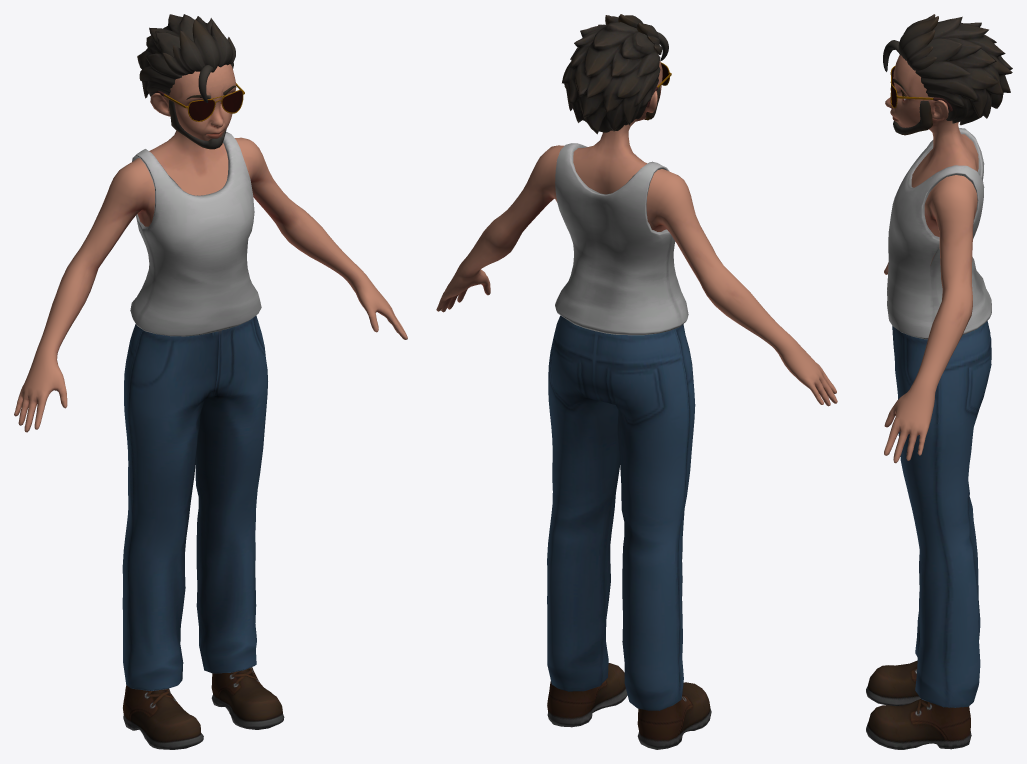
File: Volvi_Mesh.obj
3 renders of one model, left to right at view 1: azimuth 30°, elevation 25°; view 2: azimuth 150°, elevation 25°; view 3: azimuth 270°, elevation 25°, orthographic.
Visible parts, largest first — view 1: Volvi_Mesh_0; view 2: Volvi_Mesh_0; view 3: Volvi_Mesh_0.
Boxes of the visible parts, <box> form: Volvi_Mesh_0: <box>14,14,407,749</box>; Volvi_Mesh_0: <box>436,14,837,749</box>; Volvi_Mesh_0: <box>866,14,1012,749</box>.
Size of the model in its own units: 1.06 by 1.84 by 0.3488.
Materials: 1 (1 with a texture image).
